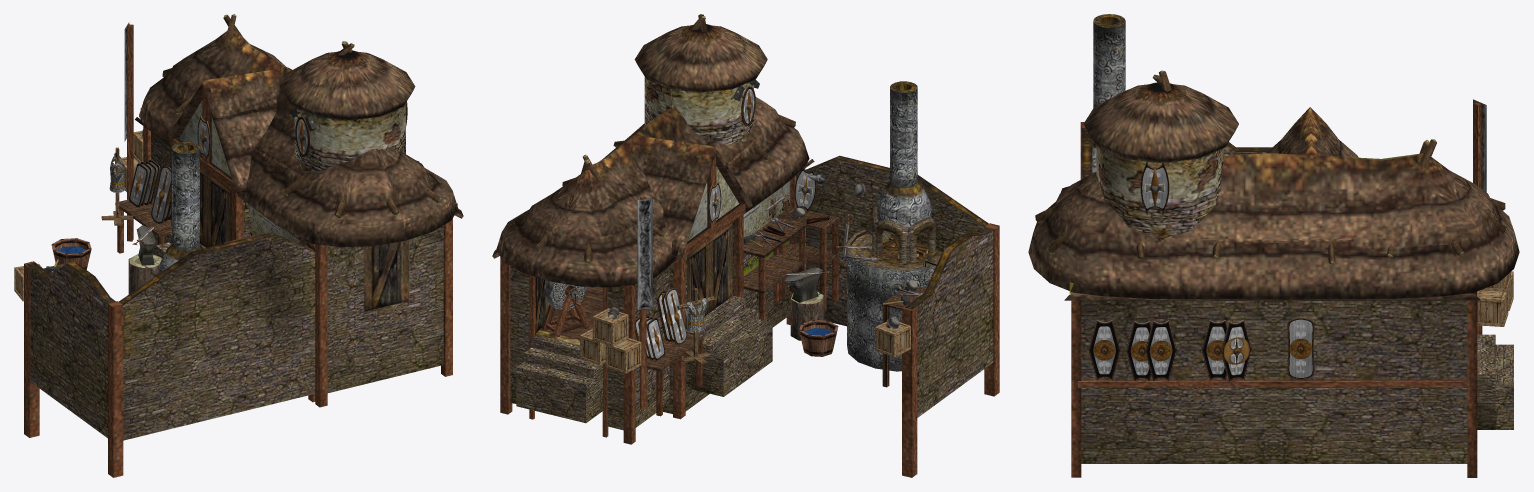
File: s_britons_blacksmith.glb
3 views of the same model, side by side, from view 1: azimuth 30°, elevation 25°; view 2: azimuth 150°, elevation 25°; view 3: azimuth 270°, elevation 25° (orthographic). The views are drawn at different scales.
Visible parts, largest first — view 1: s_britons_blacksmith_part0, s_britons_blacksmith_part9, s_britons_blacksmith_part3, s_britons_blacksmith_part8, s_britons_blacksmith_part22, s_britons_blacksmith_part7; view 2: s_britons_blacksmith_part0, s_britons_blacksmith_part8, s_britons_blacksmith_part9, s_britons_blacksmith_part3, s_britons_blacksmith_part6, s_britons_blacksmith_part7, s_britons_blacksmith_part5, s_britons_blacksmith_part4; view 3: s_britons_blacksmith_part0, s_britons_blacksmith_part9, s_britons_blacksmith_part20, s_britons_blacksmith_part12, s_britons_blacksmith_part8.
Boxes of the visible parts, x1,y1,x2,y2 form: s_britons_blacksmith_part0: (24, 14, 463, 477); s_britons_blacksmith_part9: (130, 119, 307, 221); s_britons_blacksmith_part3: (51, 238, 161, 294); s_britons_blacksmith_part8: (14, 130, 143, 301); s_britons_blacksmith_part22: (129, 159, 159, 207); s_britons_blacksmith_part7: (136, 225, 155, 265); s_britons_blacksmith_part0: (492, 14, 999, 477); s_britons_blacksmith_part8: (580, 308, 910, 373); s_britons_blacksmith_part9: (636, 89, 815, 358); s_britons_blacksmith_part3: (790, 292, 838, 356); s_britons_blacksmith_part6: (733, 79, 936, 305); s_britons_blacksmith_part7: (785, 267, 823, 302); s_britons_blacksmith_part5: (683, 297, 708, 332); s_britons_blacksmith_part4: (677, 288, 714, 363); s_britons_blacksmith_part0: (1028, 14, 1519, 477); s_britons_blacksmith_part9: (1094, 167, 1312, 377); s_britons_blacksmith_part20: (1088, 319, 1251, 381); s_britons_blacksmith_part12: (1093, 338, 1312, 361); s_britons_blacksmith_part8: (1477, 271, 1513, 326).
Bounding box in the file's own units: 3.94 × 3.96 × 4.2.
Materials: 23 (23 with a texture image).
